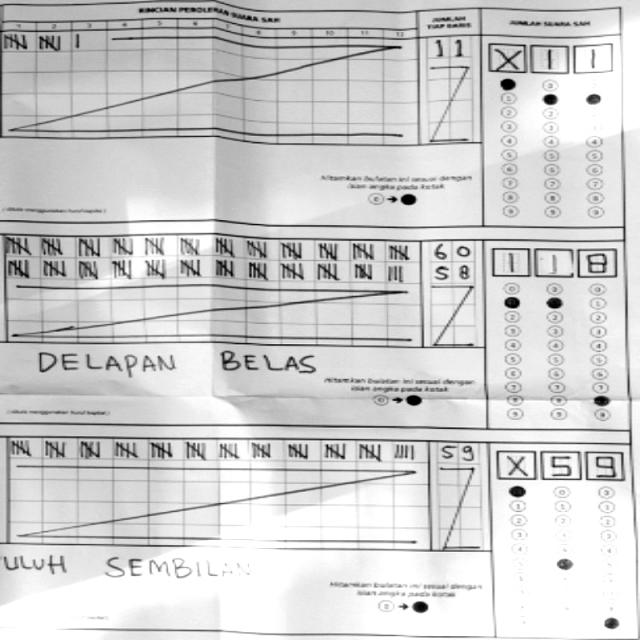Suara: (484, 35, 618, 80), (489, 444, 626, 486), (484, 247, 624, 282)
